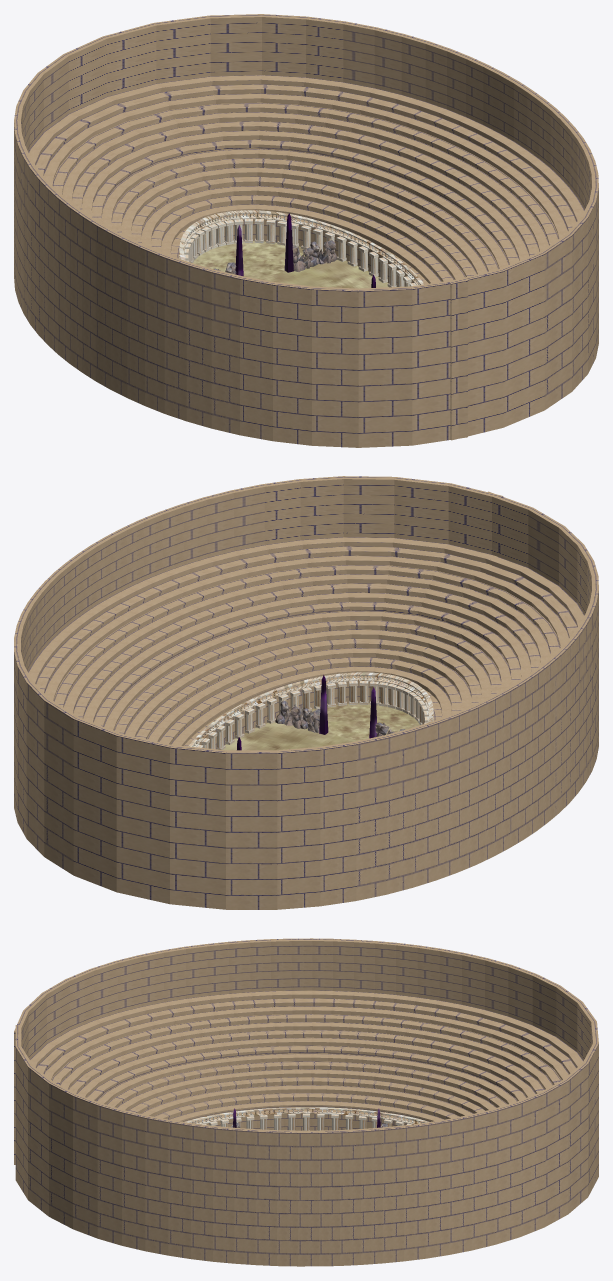
File: NewArena.fbx
3 views of the same model, one above another, from view 1: azimuth 30°, elevation 25°; view 2: azimuth 150°, elevation 25°; view 3: azimuth 270°, elevation 25° (orthographic). The views are drawn at different scales.
Visible parts, largest first — view 1: Cube.012, Circle.002, Cube.060, Cube.054, Cube.014; view 2: Cube.012, Circle.002, Cube.060, Cube.033, Cube.011; view 3: Cube.012, Cube.060.
Boxes of the visible parts, bbox=[...] form: Cube.012: bbox=[14, 14, 598, 447]; Circle.002: bbox=[193, 241, 388, 288]; Cube.060: bbox=[179, 210, 424, 285]; Cube.054: bbox=[292, 240, 337, 271]; Cube.014: bbox=[235, 213, 293, 276]; Cube.012: bbox=[14, 476, 598, 909]; Circle.002: bbox=[223, 703, 419, 750]; Cube.060: bbox=[188, 672, 433, 747]; Cube.033: bbox=[275, 701, 320, 732]; Cube.011: bbox=[319, 675, 377, 738]; Cube.012: bbox=[14, 938, 598, 1266]; Cube.060: bbox=[184, 1107, 428, 1124].
Bounding box in the file's own units: 375 × 126 × 477.
